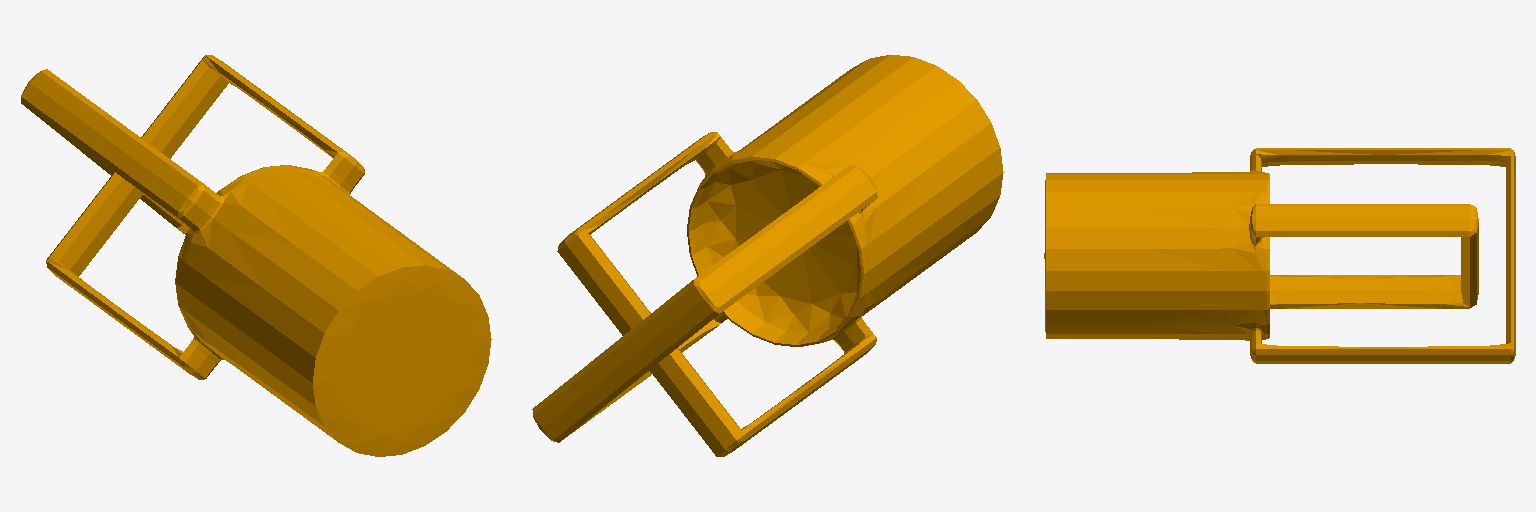
The robot description file, URDF, robot "178":
<?xml version="1.0" ?>
<robot name="178">
  <link name="body">
    <visual>
      <geometry>
        <mesh filename="../shapes/178.obj"/>
      </geometry>
    </visual>
    <collision>
      <geometry>
        <mesh filename="../shapes/178.obj"/>
      </geometry>
    </collision>
  </link>
</robot>

--- Render facts (derived) ---
3 views of the same robot in one strip: view 1: azimuth 30°, elevation 25°; view 2: azimuth 150°, elevation 25°; view 3: azimuth 270°, elevation 25° (orthographic).
Robot: 178 — 1 links, 0 joints (none); root link body; default pose: all joints at 0.
Visible links, largest first — view 1: body; view 2: body; view 3: body.
Link boxes in pixels (x1,y1,x2,y2): body: (21,55,491,456); body: (532,55,1003,456); body: (1044,148,1515,363).
Size in the robot's own frame: 4.07 by 10.98 by 4.07 metres.
1 mesh visuals loaded from 1 distinct referenced files (1 OBJ).